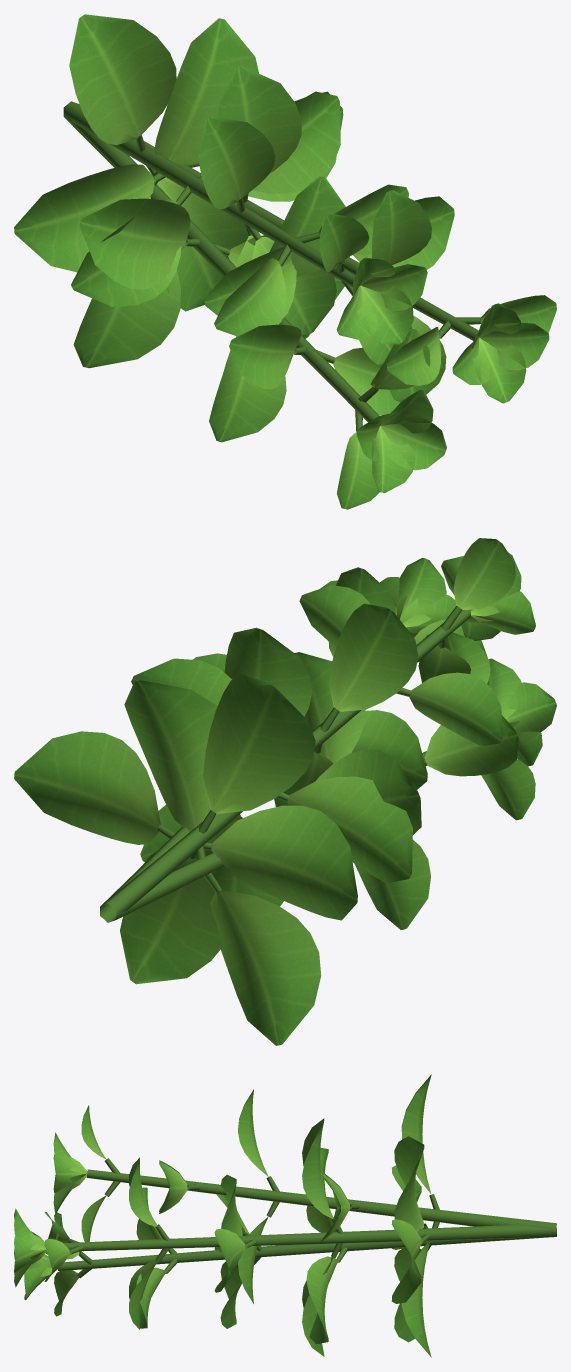
File: basil.obj
The picture shows the model from 3 angles, top to bottom: view 1: azimuth 30°, elevation 25°; view 2: azimuth 150°, elevation 25°; view 3: azimuth 270°, elevation 25°; orthographic projection. The views are drawn at different scales.
Parts seen in each view (by area): view 1: basil; view 2: basil; view 3: basil.
Boxes of the visible parts, x1=… form: basil: x1=14, y1=14, x2=556, y2=509; basil: x1=14, y1=538, x2=556, y2=1045; basil: x1=14, y1=1074, x2=556, y2=1357.
Bounding box in the file's own units: 0.1501 × 0.1525 × 0.2886.
2 materials, 1 textured.
